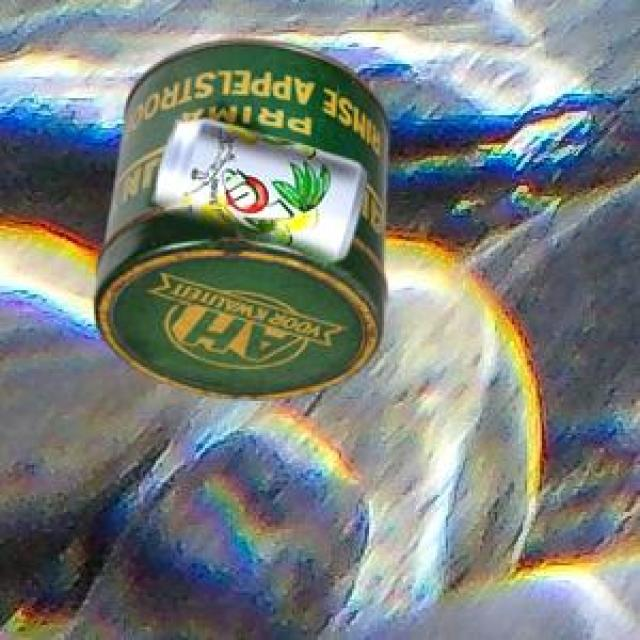logam: (91, 37, 385, 396), (151, 116, 364, 257)
